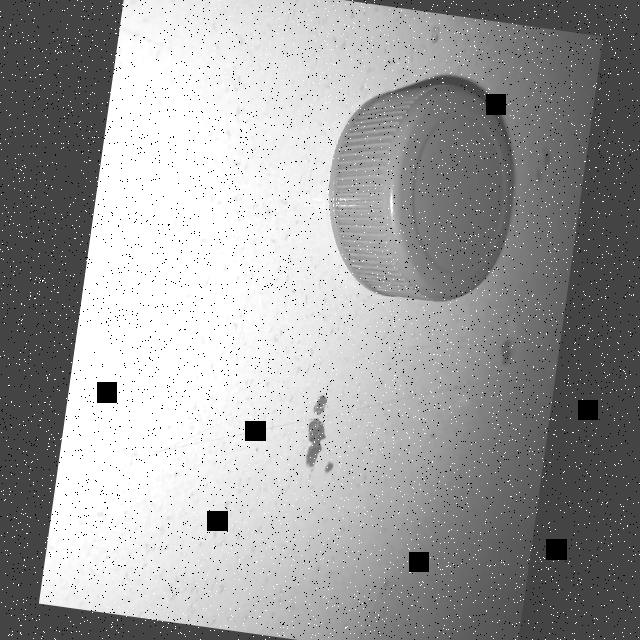plastic_bottle_cap: (312, 68, 528, 312)
